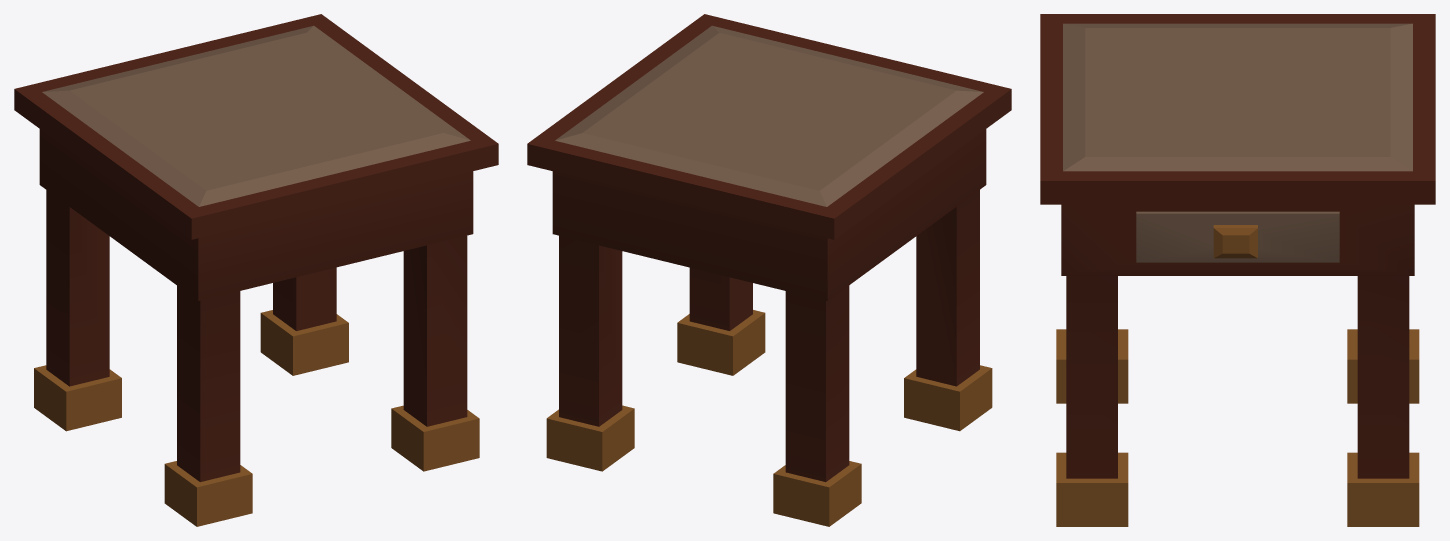
Rendered from table.glb.
The picture shows the model from 3 angles, left to right: view 1: azimuth 30°, elevation 25°; view 2: azimuth 150°, elevation 25°; view 3: azimuth 270°, elevation 25°; orthographic projection. The views are drawn at different scales.
Visible parts, largest first — view 1: Cube; view 2: Cube; view 3: Cube.
Boxes of the visible parts, x1,y1,x2,y2 form: Cube: [14, 14, 498, 526]; Cube: [527, 14, 1011, 526]; Cube: [1040, 14, 1435, 526].
Bounding box in the file's own units: 1 × 0.9989 × 1.
